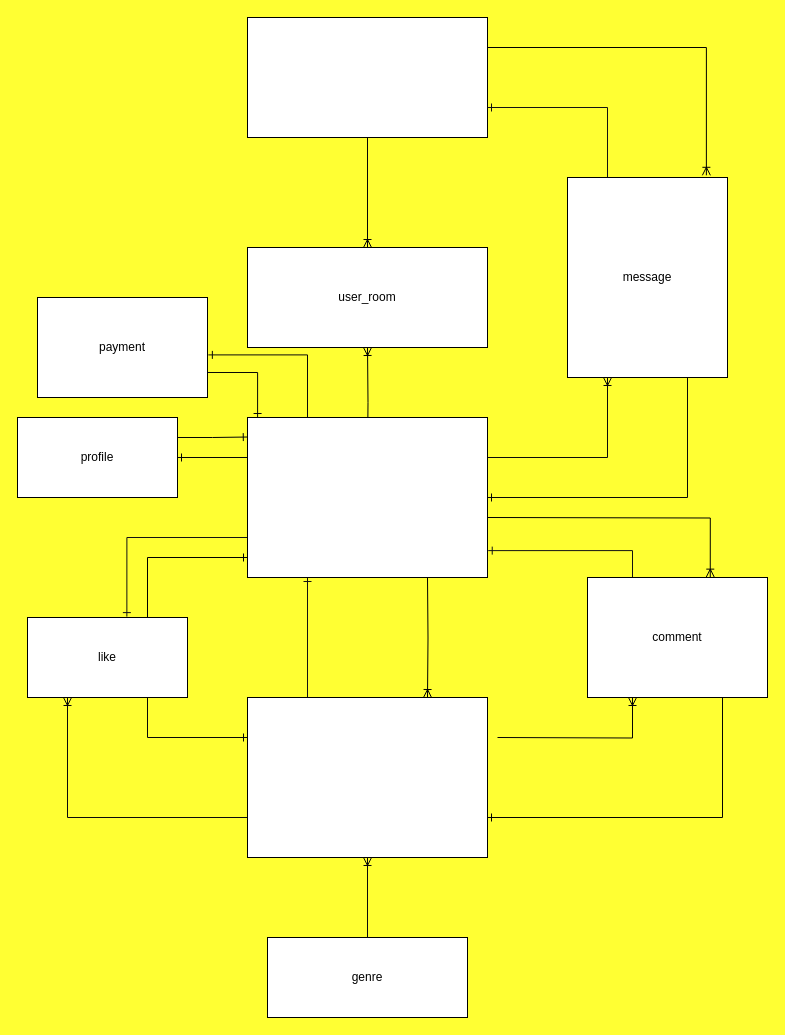
The diagram is 785 pixels wide and 1035 high, and some of its shapes have lost their labels. Each missing label, with the box of its shape:
intro: (246, 696, 488, 858)
room: (246, 16, 488, 138)
user: (246, 416, 488, 578)
